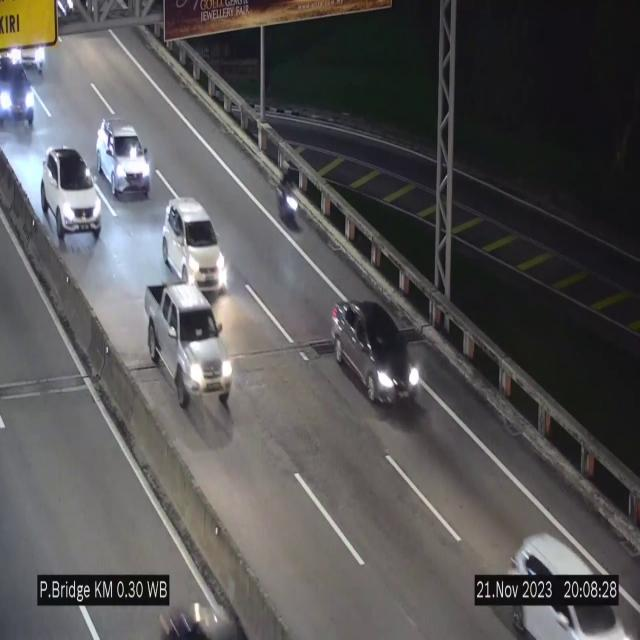Car: (144, 285, 232, 409), (332, 301, 424, 415), (162, 198, 228, 290), (41, 148, 101, 246), (96, 116, 152, 198)
Motorcycle: (279, 165, 303, 239)
